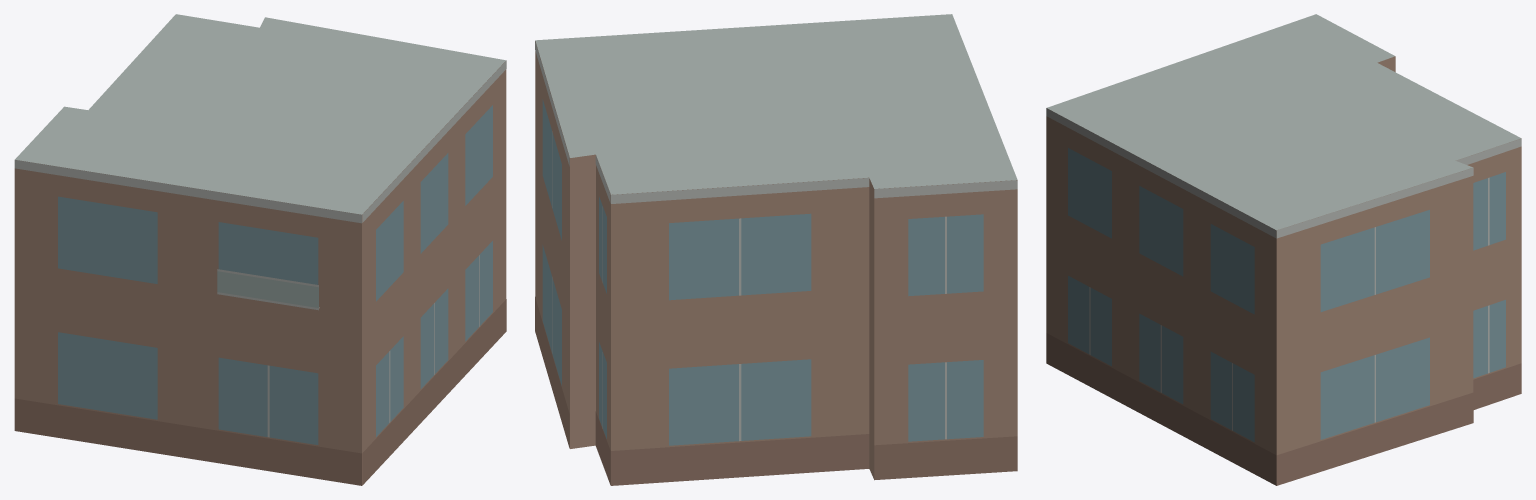
The model's file is survey-upis-32582156.glb.
3 renders of one model, left to right at view 1: azimuth 30°, elevation 25°; view 2: azimuth 150°, elevation 25°; view 3: azimuth 270°, elevation 25°, orthographic. The views are drawn at different scales.
Visible parts, largest first — view 1: survey-upis-32582156.tmp; view 2: survey-upis-32582156.tmp; view 3: survey-upis-32582156.tmp.
Part boxes in pixels (x1,y1,x2,y2): survey-upis-32582156.tmp: [14, 14, 506, 485]; survey-upis-32582156.tmp: [535, 14, 1017, 485]; survey-upis-32582156.tmp: [1046, 14, 1521, 485].
Size of the model in its own units: 13.81 by 7.6 by 12.82.
